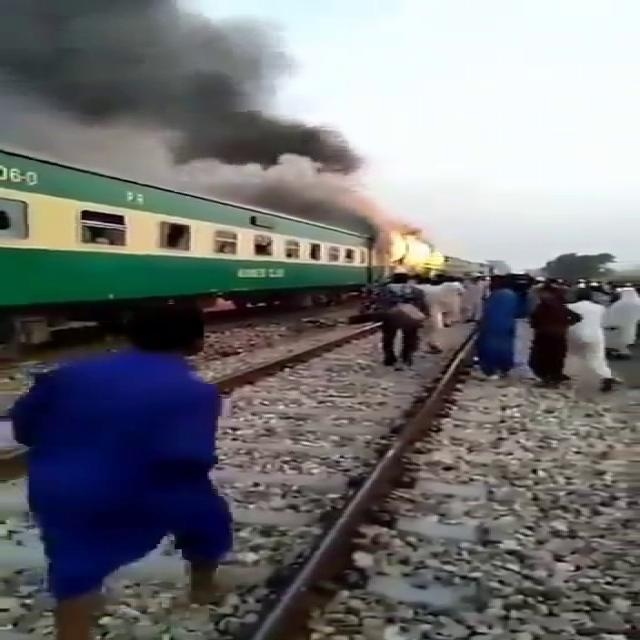Fire: (395, 231, 449, 279)
Smoke: (0, 113, 253, 188)
